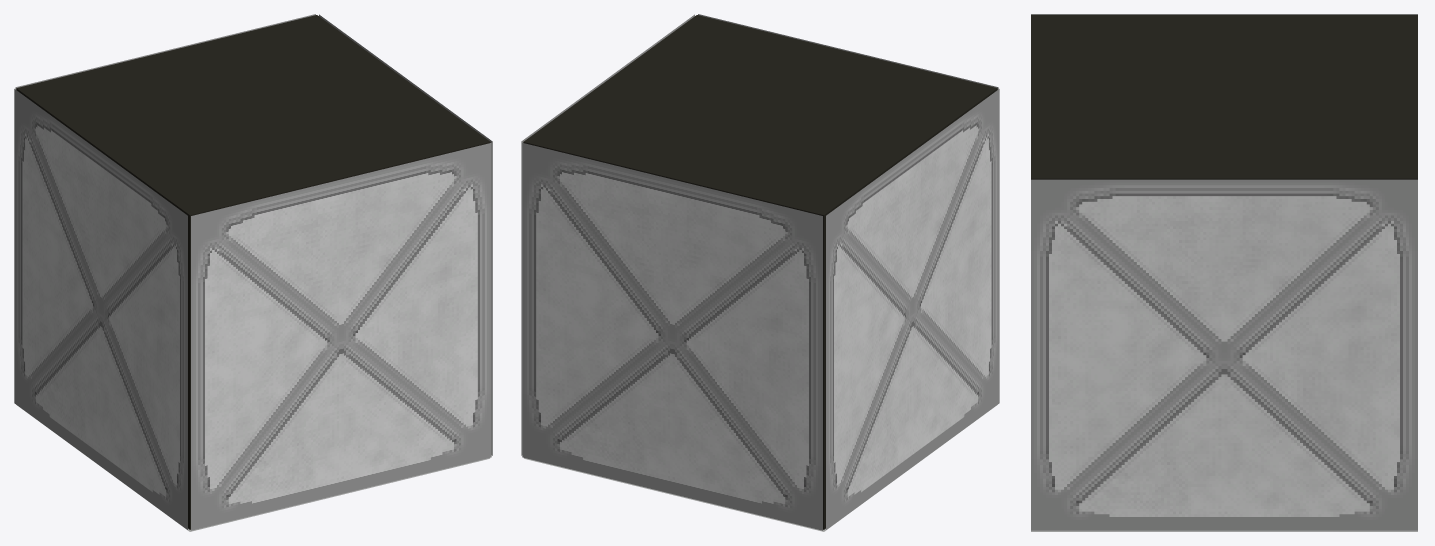
The model's file is tank.obj.
3 views of the same model, side by side, from view 1: azimuth 30°, elevation 25°; view 2: azimuth 150°, elevation 25°; view 3: azimuth 270°, elevation 25° (orthographic). The views are drawn at different scales.
Parts seen in each view (by area): view 1: Tank6, Tank3, Tank1, Tank4; view 2: Tank2, Tank3, Tank1, Tank4; view 3: Tank4, Tank1, Tank5.
Part boxes in pixels (x1,y1,x2,y2): Tank6: (191, 143, 491, 530); Tank3: (14, 89, 187, 529); Tank1: (16, 15, 490, 529); Tank4: (319, 14, 492, 455); Tank2: (522, 143, 822, 530); Tank3: (826, 89, 999, 529); Tank1: (523, 15, 997, 529); Tank4: (521, 14, 694, 455); Tank4: (1031, 179, 1417, 530); Tank1: (1031, 15, 1417, 179); Tank5: (1031, 530, 1417, 531).
Size of the model in its own units: 3.04 by 3.02 by 3.04.
Materials: 2 (1 with a texture image).
